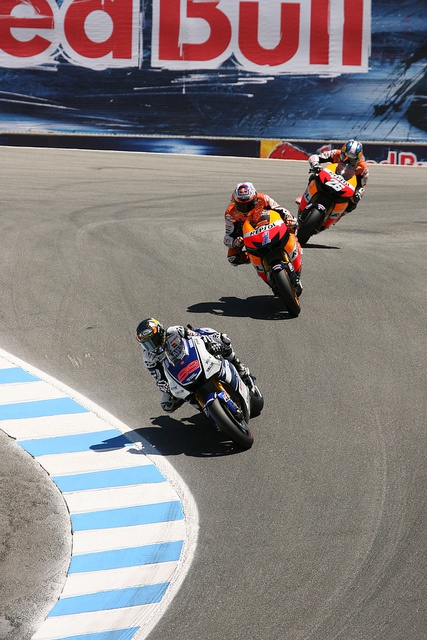non-vehicle: (164, 336, 254, 447), (242, 207, 305, 315), (292, 161, 359, 249)
